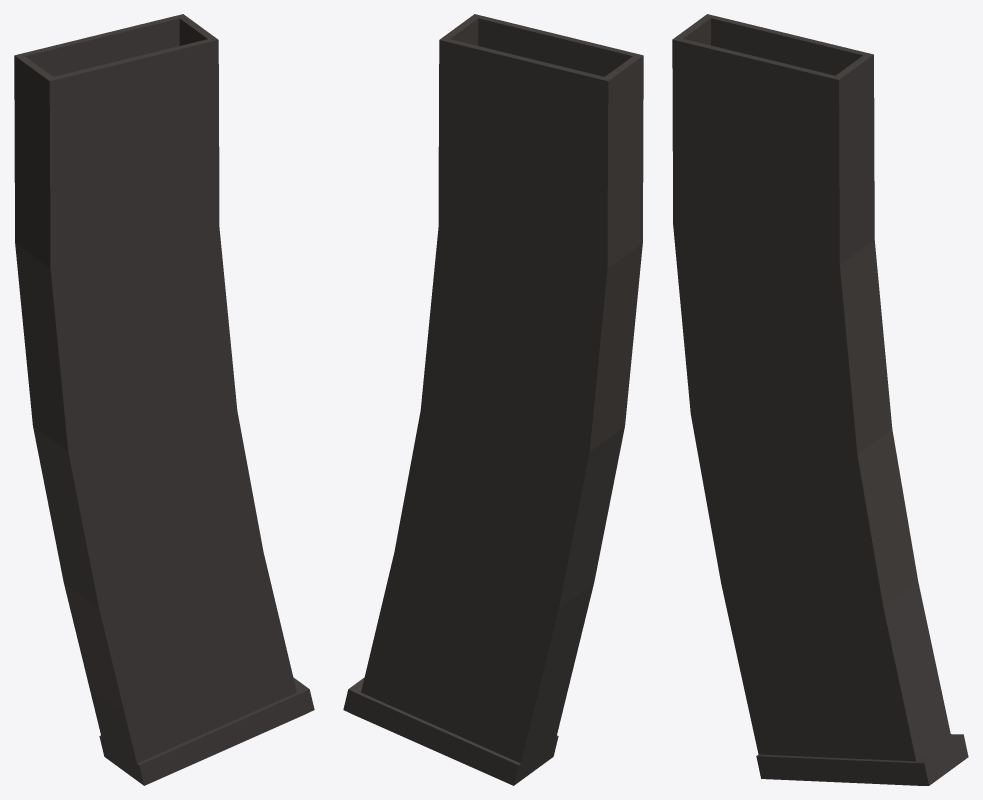
The model's file is SMG3_03_3.fbx.
3 renders of one model, left to right at view 1: azimuth 30°, elevation 25°; view 2: azimuth 150°, elevation 25°; view 3: azimuth 330°, elevation 25°, orthographic.
Visible parts, largest first — view 1: SMG3_03_3; view 2: SMG3_03_3; view 3: SMG3_03_3.
Part boxes in pixels (x1,y1,x2,y2): SMG3_03_3: (14,14,314,785); SMG3_03_3: (343,14,643,785); SMG3_03_3: (672,14,968,785).
Size of the model in its own units: 0.0784 by 0.207 by 0.0206.
